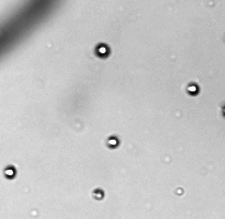Living Cell: (94, 43, 111, 58), (106, 136, 120, 149), (187, 82, 200, 95), (3, 166, 16, 179), (91, 188, 105, 199)
